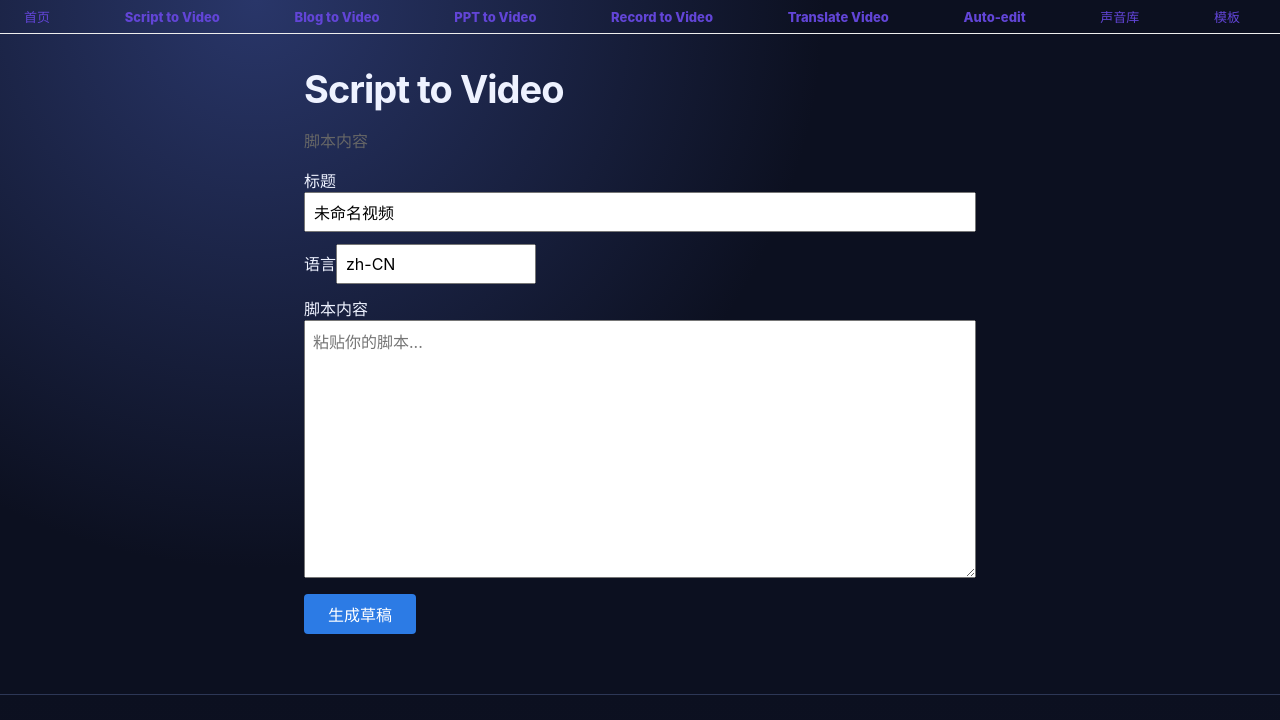
Test: WorkflowPage R25 (rev41) - text mode › submit 期间 aria-busy=true + button disabled
Type "Hi" into the text box labelled "脚本内容" at (640, 449), box 304,320 -> 976,578
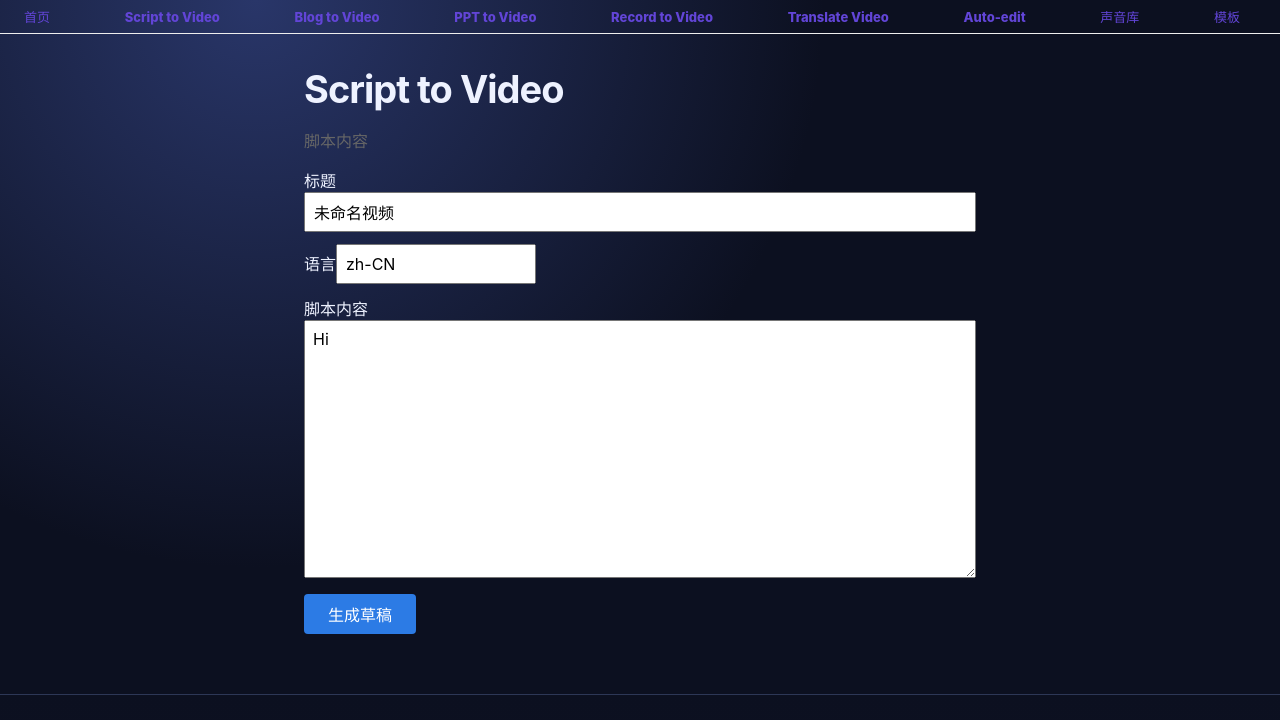
Submit the form, box 304,168 -> 976,634
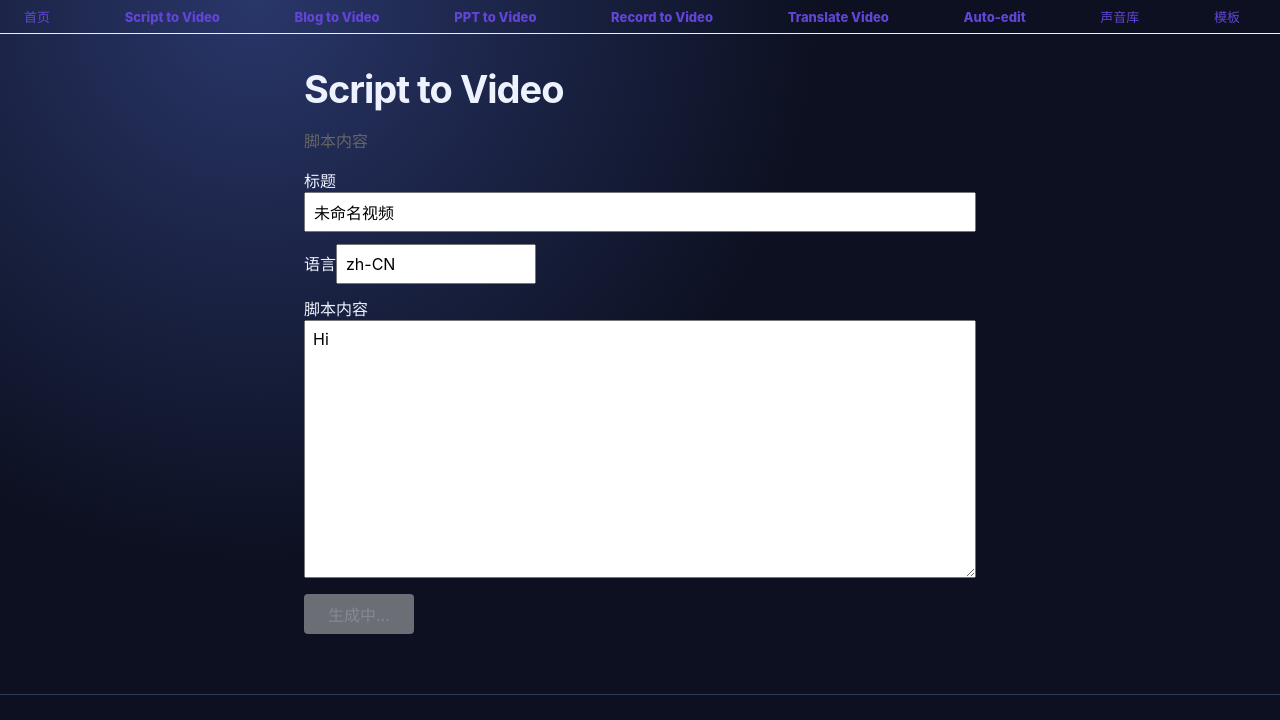
Now the submit button is disabled, box 304,594 -> 414,634
Now the submit button reads "生成中...", box 304,594 -> 414,634
